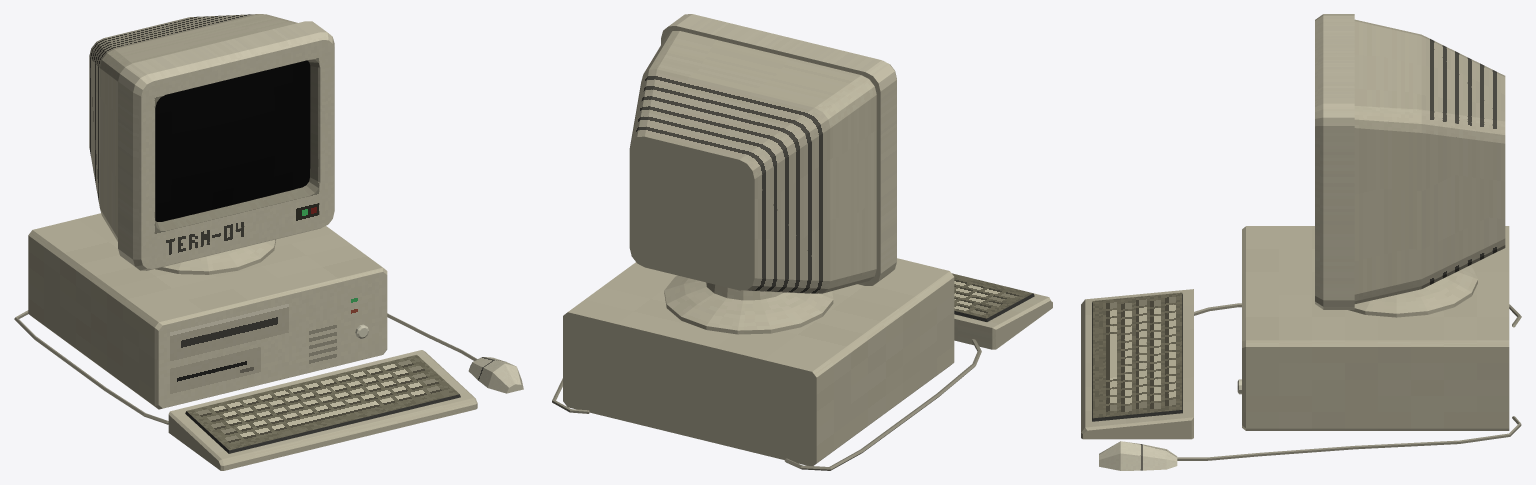
Rendered from terminal.glb.
3 renders of one model, left to right at view 1: azimuth 30°, elevation 25°; view 2: azimuth 150°, elevation 25°; view 3: azimuth 270°, elevation 25°, orthographic. The views are drawn at different scales.
Parts seen in each view (by area): view 1: case_body, bezel, screen, keyboard_keys, shell_rear, keyboard_body, stand_base, mouse_body, keyboard_cable; view 2: shell_rear, case_body, bezel, stand_base, keyboard_body, keyboard_keys, bezel_back, keyboard_cable; view 3: case_body, shell_rear, bezel, keyboard_keys, keyboard_body, stand_base, mouse_body, mouse_cable.
Part boxes in pixels (bbox=[...]): case_body: bbox=[28, 213, 387, 409]; bezel: bbox=[118, 21, 334, 270]; screen: bbox=[155, 60, 310, 221]; keyboard_keys: bbox=[185, 355, 460, 453]; shell_rear: bbox=[89, 14, 297, 241]; keyboard_body: bbox=[168, 350, 477, 470]; stand_base: bbox=[155, 239, 275, 274]; mouse_body: bbox=[468, 357, 523, 393]; keyboard_cable: bbox=[14, 310, 168, 424]; shell_rear: bbox=[629, 31, 876, 293]; case_body: bbox=[563, 258, 954, 465]; bezel: bbox=[669, 14, 896, 283]; stand_base: bbox=[664, 275, 833, 334]; keyboard_body: bbox=[954, 293, 1052, 349]; keyboard_keys: bbox=[952, 273, 1034, 321]; bezel_back: bbox=[661, 26, 880, 285]; keyboard_cable: bbox=[784, 339, 981, 470]; case_body: bbox=[1242, 226, 1509, 430]; shell_rear: bbox=[1354, 19, 1505, 303]; bezel: bbox=[1315, 14, 1354, 309]; keyboard_keys: bbox=[1092, 292, 1182, 421]; keyboard_body: bbox=[1081, 289, 1193, 439]; stand_base: bbox=[1348, 265, 1477, 317]; mouse_body: bbox=[1099, 441, 1177, 470]; mouse_cable: bbox=[1177, 416, 1521, 460].
Size of the model in its own units: 0.5869 by 0.5188 by 0.6594.
2 materials, 2 textured.
